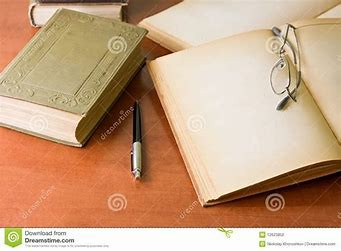pen: (128, 101, 147, 185)
